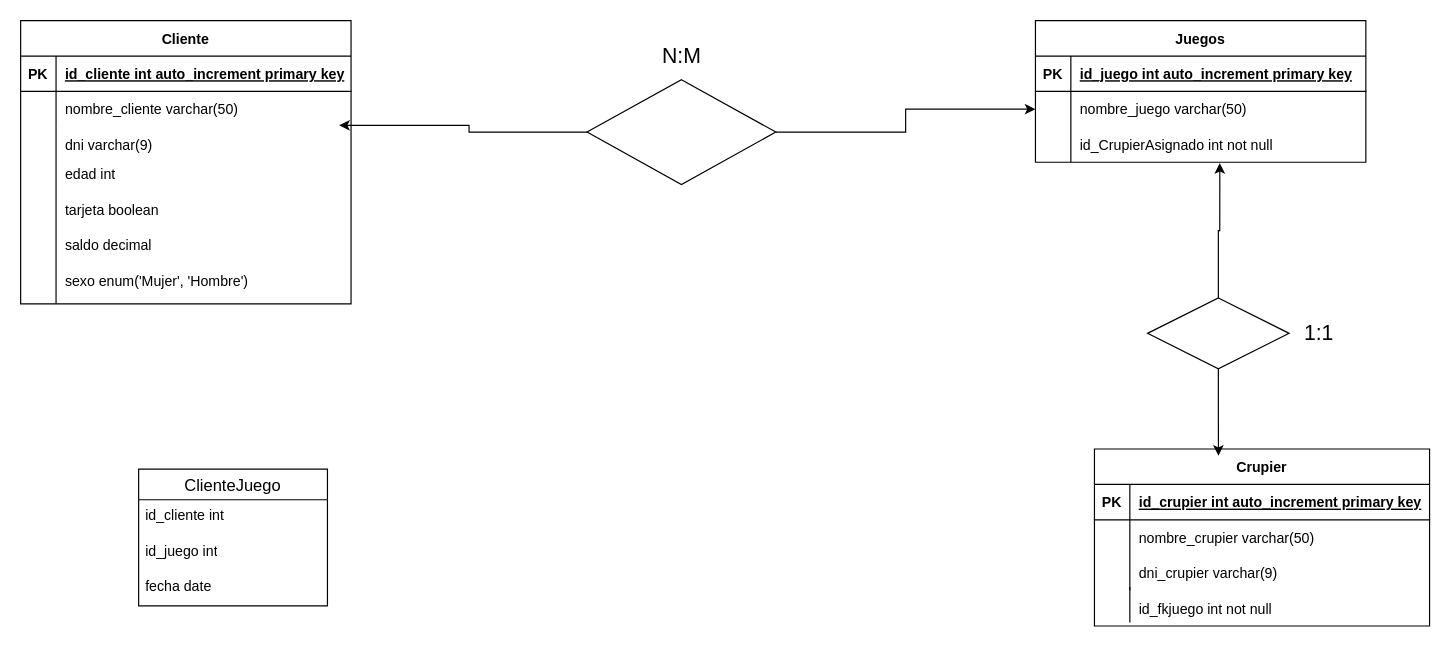
Some shapes in this 1450 by 647 pixel diagram are drawn without their labels. Each missing label, with the centre of its shape:
"Dirige" goes at pixel 1217 333.
"Juega" goes at pixel 681 131.
